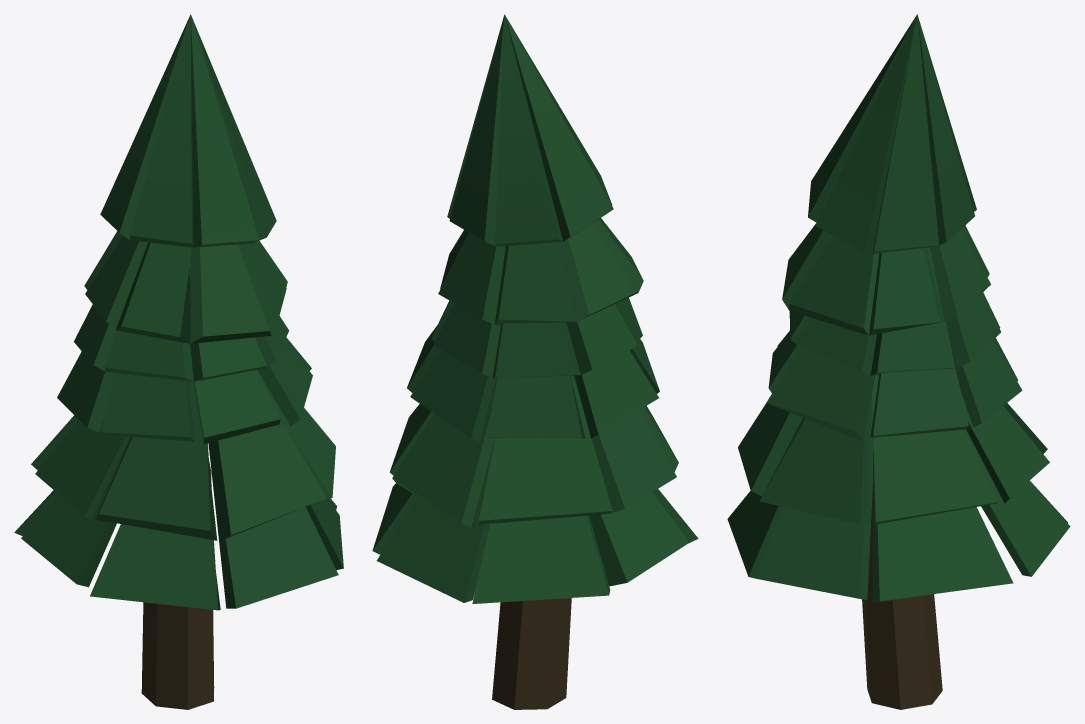
The model's file is PineTree2.fbx.
The picture shows the model from 3 angles, left to right: view 1: azimuth 30°, elevation 25°; view 2: azimuth 150°, elevation 25°; view 3: azimuth 270°, elevation 25°; orthographic projection. The views are drawn at different scales.
Visible parts, largest first — view 1: PineTree2; view 2: PineTree2; view 3: PineTree2.
Part boxes in pixels (x1=…): PineTree2: x1=14, y1=14, x2=343, y2=709; PineTree2: x1=372, y1=14, x2=698, y2=709; PineTree2: x1=727, y1=14, x2=1070, y2=709.
Size of the model in its own units: 54.83 by 127 by 57.48.
